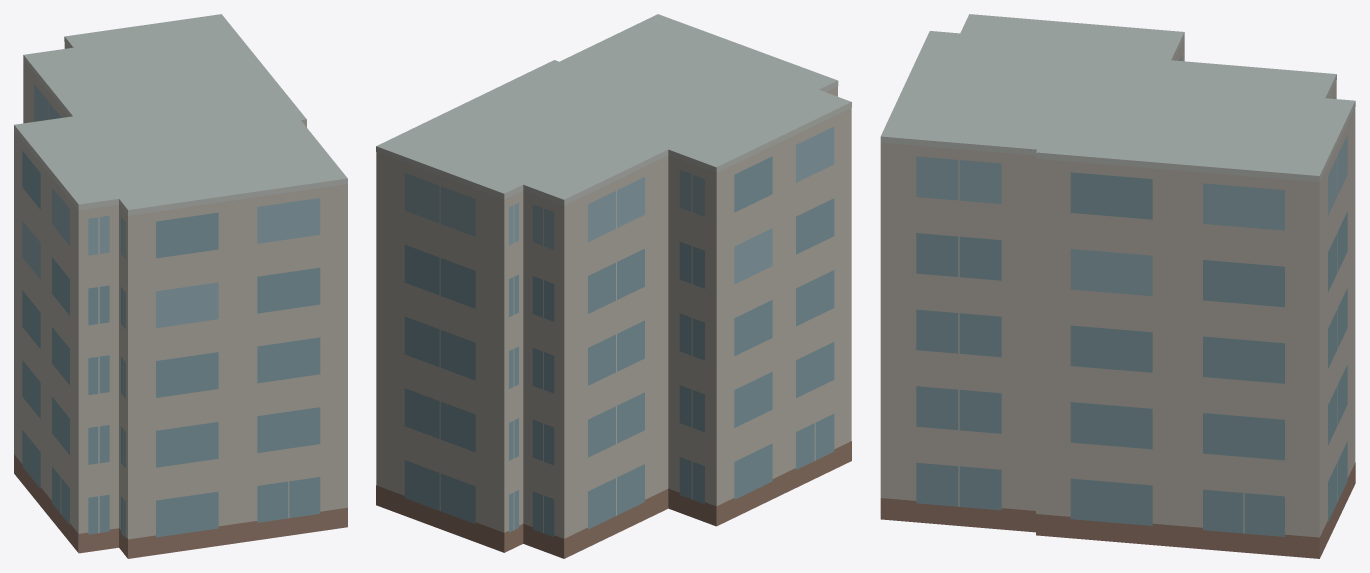
The model's file is survey-upis-33013826.glb.
3 views of the same model, side by side, from view 1: azimuth 30°, elevation 25°; view 2: azimuth 150°, elevation 25°; view 3: azimuth 270°, elevation 25° (orthographic). The views are drawn at different scales.
Visible parts, largest first — view 1: survey-upis-33013826.tmp; view 2: survey-upis-33013826.tmp; view 3: survey-upis-33013826.tmp.
Part boxes in pixels (x1,y1,x2,y2): survey-upis-33013826.tmp: (14,14,347,558); survey-upis-33013826.tmp: (376,14,851,558); survey-upis-33013826.tmp: (880,14,1355,558).
Size of the model in its own units: 13.8 by 15.2 by 17.1.
